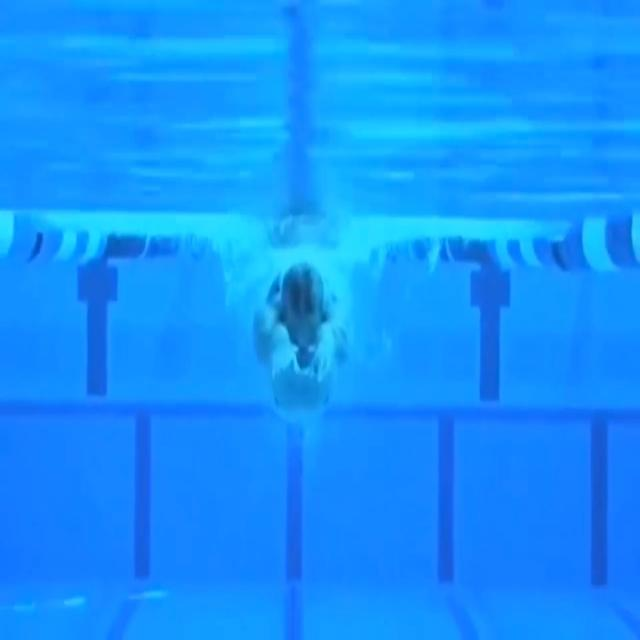Swimming: (253, 262, 350, 418)
